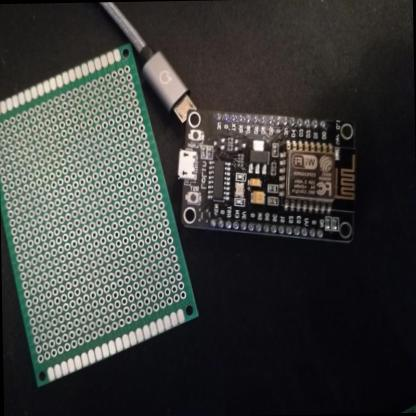ESP8266: (174, 105, 363, 252)
